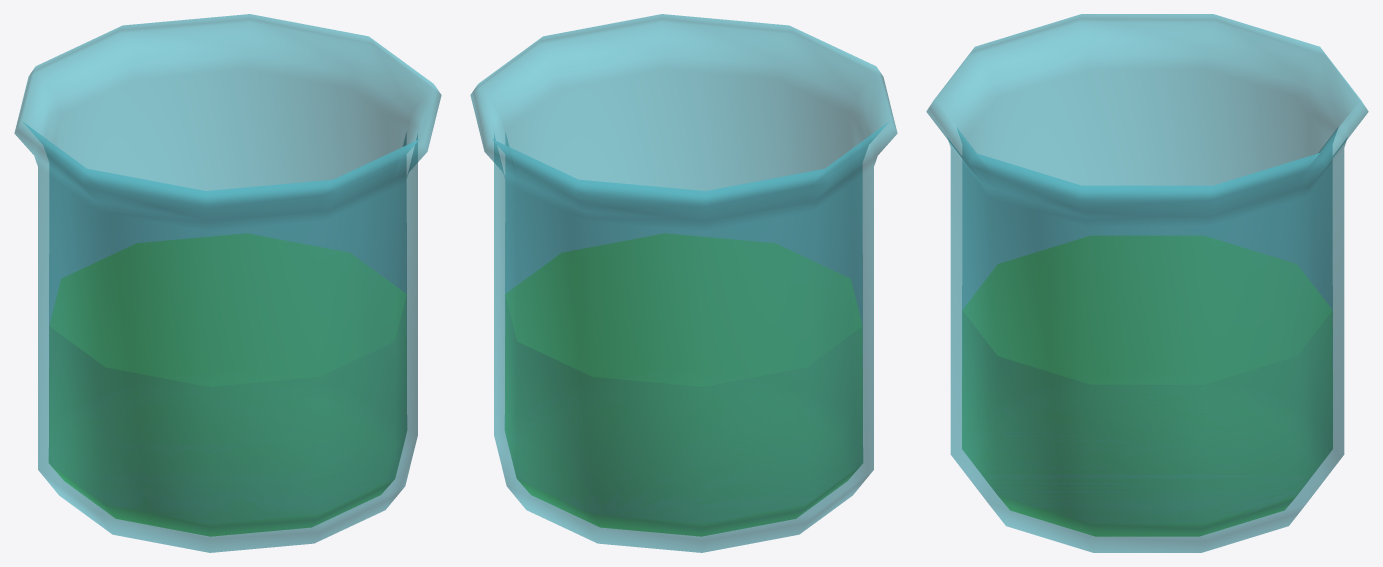
The model's file is beaker.obj.
The picture shows the model from 3 angles, left to right: view 1: azimuth 30°, elevation 25°; view 2: azimuth 150°, elevation 25°; view 3: azimuth 270°, elevation 25°; orthographic projection.
Visible parts, largest first — view 1: Beaker_Full_Var2_Cylinder.024; view 2: Beaker_Full_Var2_Cylinder.024; view 3: Beaker_Full_Var2_Cylinder.024.
Part boxes in pixels (<box>): Beaker_Full_Var2_Cylinder.024: <box>14,14,441,552</box>; Beaker_Full_Var2_Cylinder.024: <box>470,14,897,552</box>; Beaker_Full_Var2_Cylinder.024: <box>926,14,1368,552</box>.
Bounding box in the file's own units: 0.1891 × 0.1898 × 0.1988.
